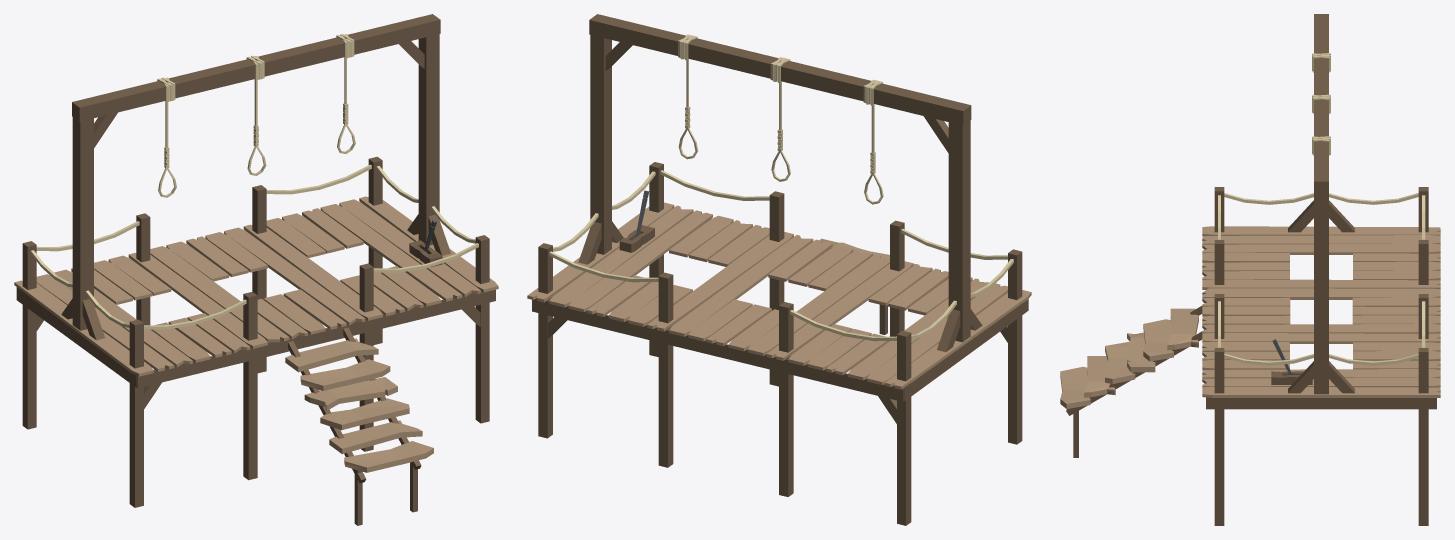
Rendered from Gallows.fbx.
The picture shows the model from 3 angles, left to right: view 1: azimuth 30°, elevation 25°; view 2: azimuth 150°, elevation 25°; view 3: azimuth 270°, elevation 25°; orthographic projection. The views are drawn at different scales.
Visible parts, largest first — view 1: Gallows; view 2: Gallows; view 3: Gallows.
Boxes of the visible parts, x1=… form: Gallows: x1=14, y1=14, x2=498, y2=525; Gallows: x1=527, y1=14, x2=1031, y2=525; Gallows: x1=1060, y1=14, x2=1440, y2=525.
Size of the model in its own units: 581 by 556 by 553.
1 material, 1 textured.
